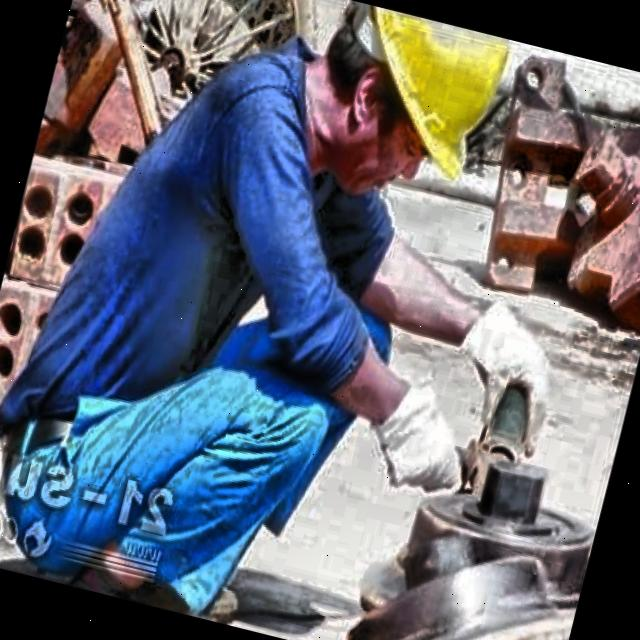helmet: (277, 0, 561, 245)
